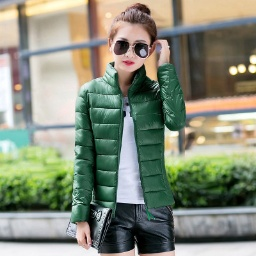face: (101, 1, 164, 85)
